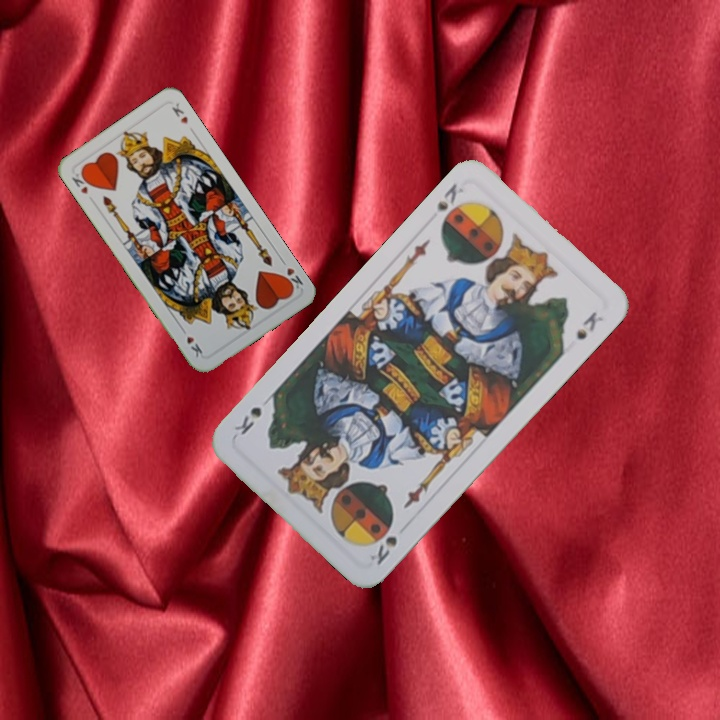HK: (277, 255, 306, 295), (68, 168, 94, 197)
SK: (366, 532, 400, 568), (432, 179, 466, 214)
